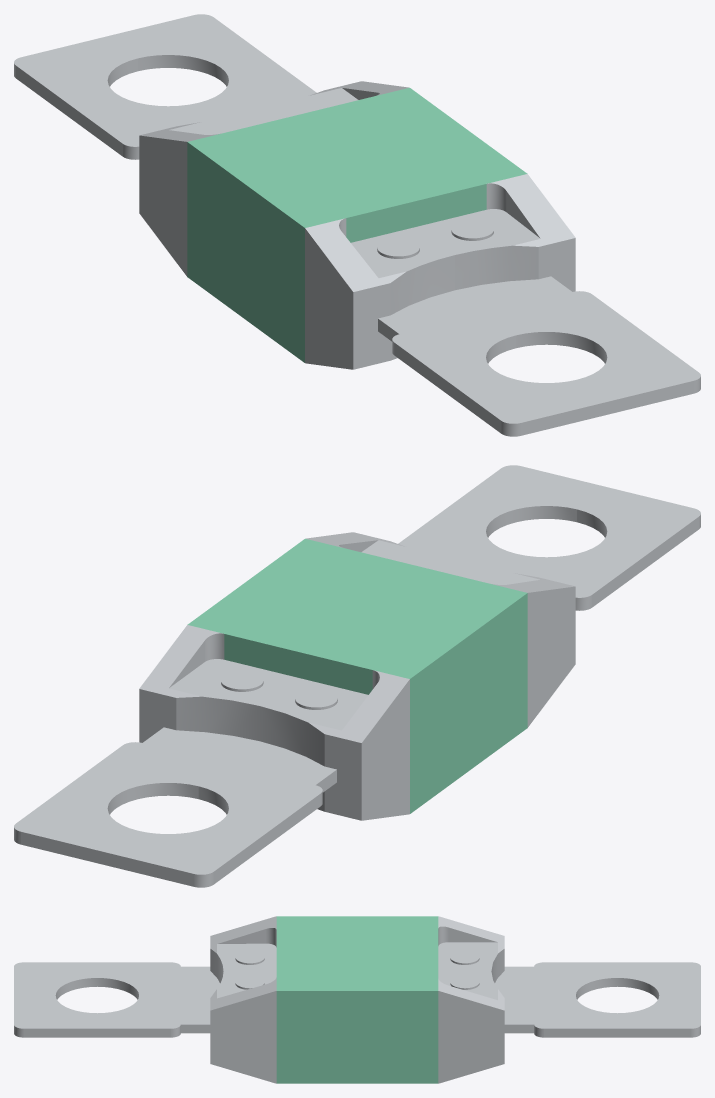
The model's file is fuse-2.glb.
3 views of the same model, one above another, from view 1: azimuth 30°, elevation 25°; view 2: azimuth 150°, elevation 25°; view 3: azimuth 270°, elevation 25° (orthographic). The views are drawn at different scales.
Parts seen in each view (by area): view 1: terminals, body; view 2: terminals, body; view 3: terminals, body.
Part boxes in pixels (<box>): terminals: <box>14,14,700,436</box>; body: <box>187,87,527,362</box>; terminals: <box>14,465,700,887</box>; body: <box>187,538,527,813</box>; terminals: <box>14,916,700,1083</box>; body: <box>276,916,438,1083</box>.
Size of the model in its own units: 0.018 by 0.0105 by 0.07.
